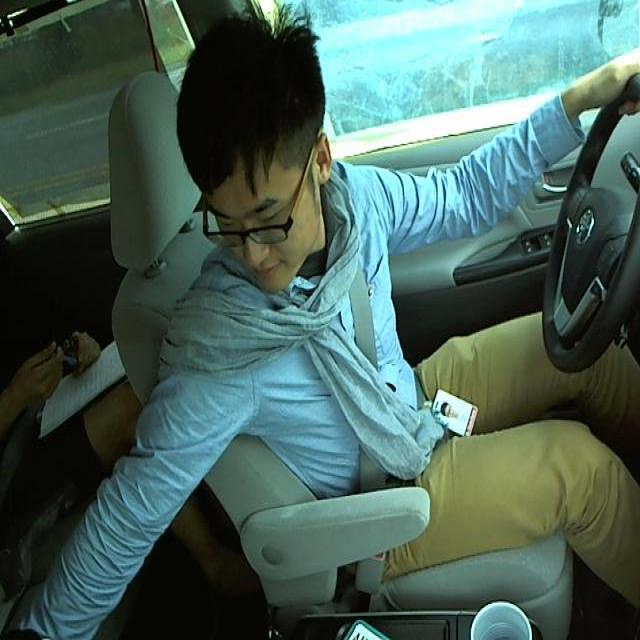seatbelt: (335, 248, 406, 511)
